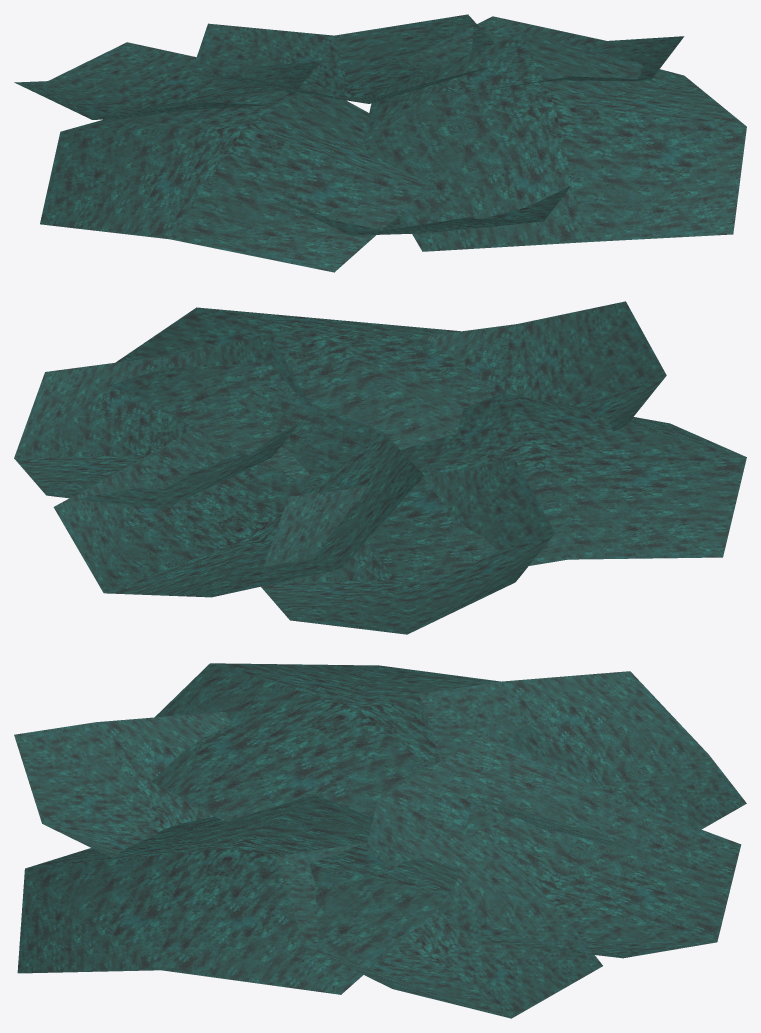
The model's file is swamp_canopy.fbx.
The picture shows the model from 3 angles, top to bottom: view 1: azimuth 30°, elevation 25°; view 2: azimuth 150°, elevation 25°; view 3: azimuth 270°, elevation 25°; orthographic projection. The views are drawn at different scales.
Visible parts, largest first — view 1: BranchesIndividual25, BranchesIndividual24, BranchesIndividual26, BranchesIndividual27, BranchesIndividual29, BranchesIndividual28; view 2: BranchesIndividual24, BranchesIndividual26, BranchesIndividual25, BranchesIndividual27, BranchesIndividual29, BranchesIndividual28; view 3: BranchesIndividual25, BranchesIndividual26, BranchesIndividual24, BranchesIndividual27, BranchesIndividual29, BranchesIndividual28.
Part boxes in pixels (<box>): BranchesIndividual25: <box>362,32,746,251</box>; BranchesIndividual24: <box>40,84,430,272</box>; BranchesIndividual26: <box>190,14,496,103</box>; BranchesIndividual27: <box>14,42,318,119</box>; BranchesIndividual29: <box>380,16,684,93</box>; BranchesIndividual28: <box>273,186,570,235</box>; BranchesIndividual24: <box>326,393,746,586</box>; BranchesIndividual26: <box>53,385,423,597</box>; BranchesIndividual25: <box>110,307,497,480</box>; BranchesIndividual27: <box>261,459,554,634</box>; BranchesIndividual29: <box>14,334,307,509</box>; BranchesIndividual28: <box>422,301,666,431</box>; BranchesIndividual25: <box>17,795,460,994</box>; BranchesIndividual26: <box>366,735,741,958</box>; BranchesIndividual24: <box>151,663,599,834</box>; BranchesIndividual27: <box>419,671,746,850</box>; BranchesIndividual29: <box>276,833,602,1018</box>; BranchesIndividual28: <box>14,712,234,858</box>.
Size of the model in its own units: 16522 by 2329 by 14567.
1 material, 1 textured.
